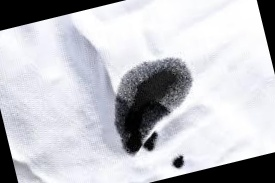ink: (102, 52, 205, 156), (169, 154, 187, 171)
